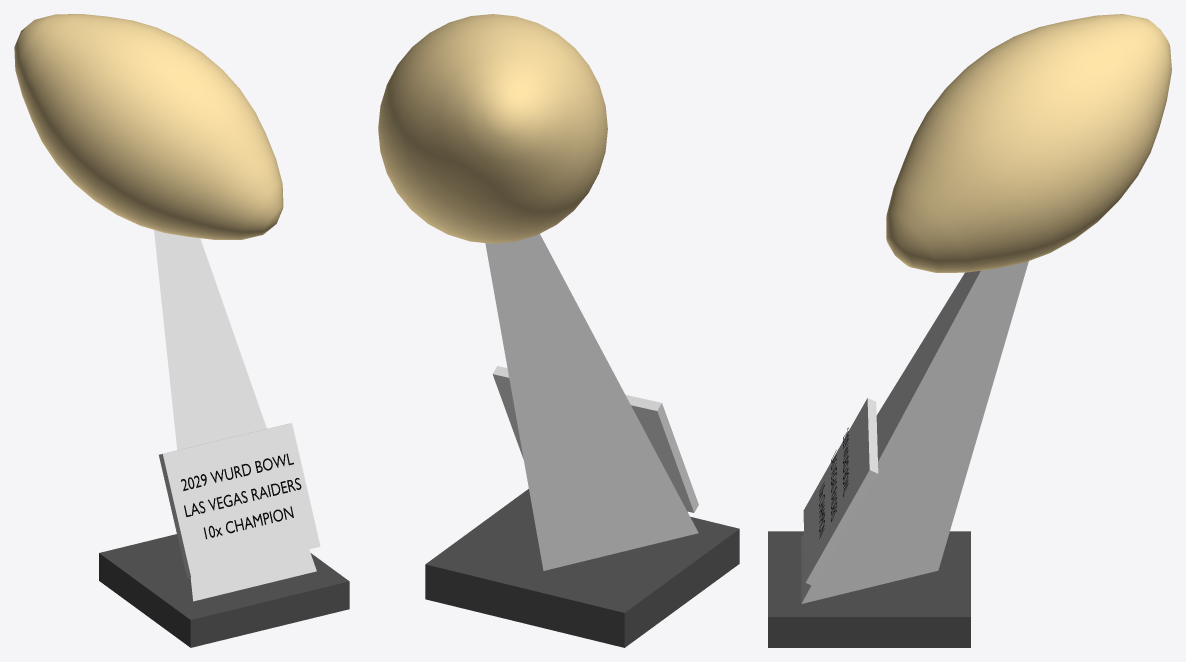
File: wurd_trophy_1.glb
3 views of the same model, side by side, from view 1: azimuth 30°, elevation 25°; view 2: azimuth 150°, elevation 25°; view 3: azimuth 270°, elevation 25° (orthographic). The views are drawn at different scales.
Visible parts, largest first — view 1: Sphere, Cylinder, Cube.001, Cube, Text; view 2: Sphere, Cylinder, Cube, Cube.001; view 3: Sphere, Cylinder, Cube, Cube.001, Text.
Boxes of the visible parts, x1,y1,x2,y2 form: Sphere: [14, 14, 283, 239]; Cylinder: [154, 230, 316, 601]; Cube.001: [159, 423, 320, 578]; Cube: [99, 534, 349, 647]; Text: [181, 453, 301, 539]; Sphere: [378, 14, 607, 243]; Cylinder: [485, 234, 698, 570]; Cube: [425, 489, 739, 647]; Cube.001: [492, 366, 698, 512]; Sphere: [886, 14, 1171, 272]; Cylinder: [801, 261, 1028, 603]; Cube: [768, 531, 970, 647]; Cube.001: [803, 398, 878, 586]; Text: [819, 427, 848, 538].
Bounding box in the file's own units: 2.28 × 6.12 × 3.98.
